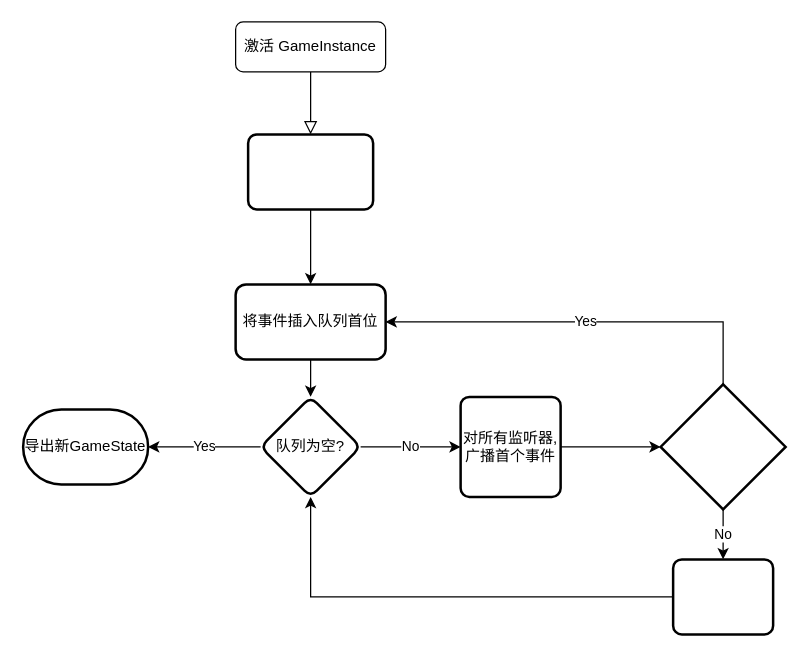
This 808x658 diagram has some shape labels left out. The centre of each missing label's shape, as x and y in pixels:
"执行该事件" goes at (x=722, y=596).
"是否有新事件?" goes at (x=722, y=446).
"读取GameState, 将所有监听器从字符串转为类实例" goes at (x=310, y=171).
